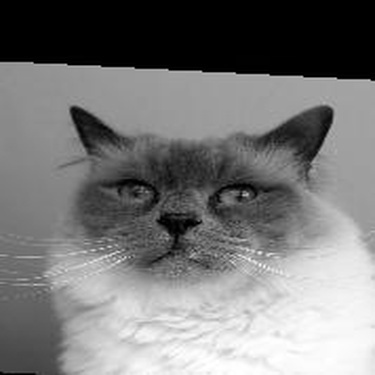cat: (49, 97, 367, 367)
